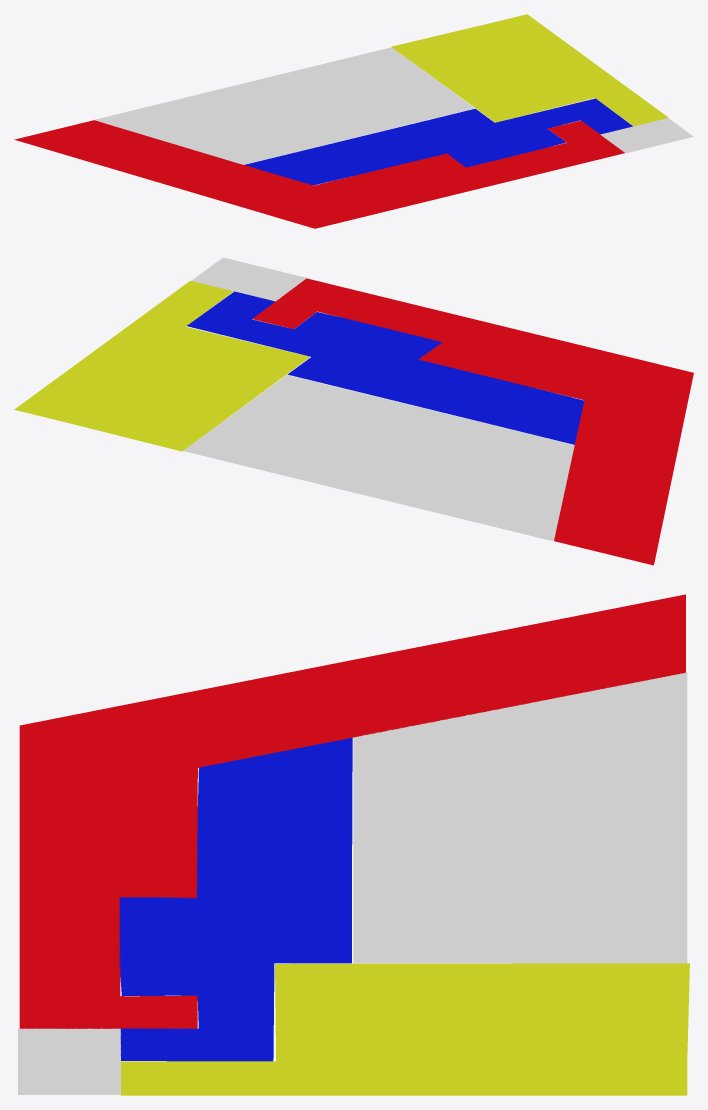
The model's file is V3_Ale_laberinto_guia.glb.
3 renders of one model, top to bottom at view 1: azimuth 30°, elevation 25°; view 2: azimuth 150°, elevation 25°; view 3: azimuth 270°, elevation 25°, orthographic. The views are drawn at different scales.
Parts seen in each view (by area): view 1: rojo, Plane.002, Plane.001, Plane, Plane.003; view 2: rojo, Plane.002, Plane.001, Plane, Plane.003; view 3: rojo, Plane.002, Plane.001, Plane, Plane.003.
Part boxes in pixels (bbox=[...]): rojo: bbox=[14, 120, 624, 228]; Plane.002: bbox=[94, 47, 474, 164]; Plane.001: bbox=[391, 14, 668, 126]; Plane: bbox=[244, 98, 632, 185]; Plane.003: bbox=[600, 118, 693, 153]; rojo: bbox=[252, 278, 693, 565]; Plane.002: bbox=[183, 375, 574, 541]; Plane.001: bbox=[14, 280, 309, 451]; Plane: bbox=[187, 291, 584, 444]; Plane.003: bbox=[191, 257, 307, 301]; rojo: bbox=[19, 594, 685, 1028]; Plane.002: bbox=[353, 672, 687, 963]; Plane.001: bbox=[121, 963, 689, 1095]; Plane: bbox=[119, 738, 352, 1061]; Plane.003: bbox=[18, 1028, 120, 1094].
Bounding box in the file's own units: 23.04 × 0 × 13.05.
